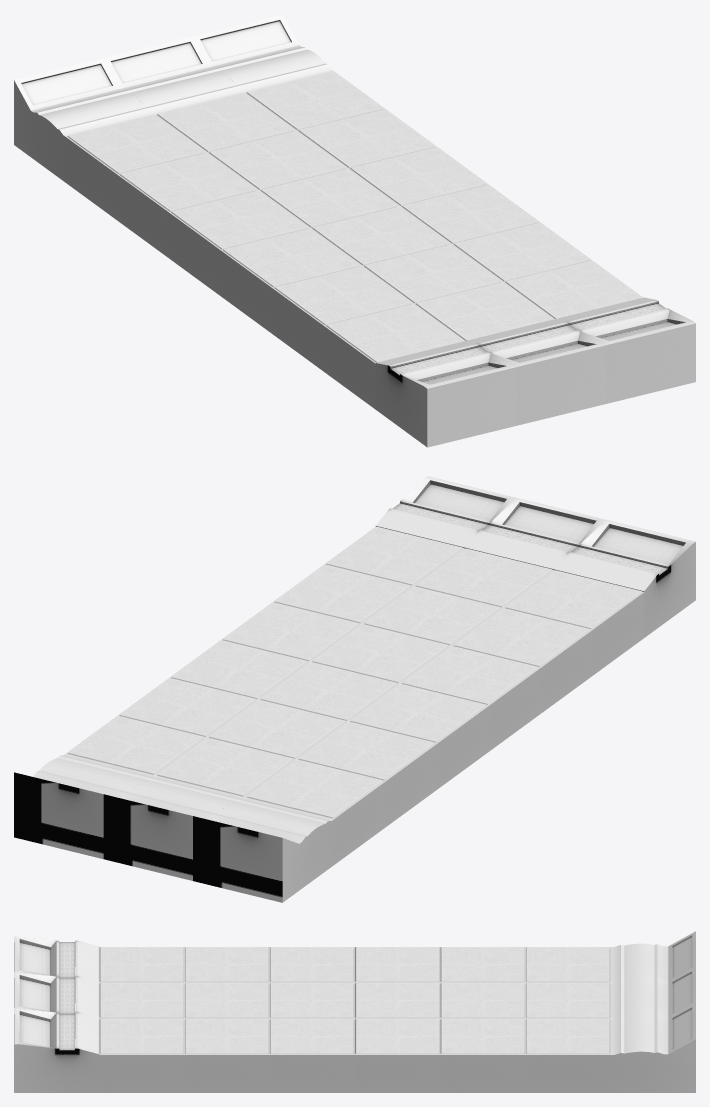
The model's file is WallSolid_3_6.fbx.
The picture shows the model from 3 angles, top to bottom: view 1: azimuth 30°, elevation 25°; view 2: azimuth 150°, elevation 25°; view 3: azimuth 270°, elevation 25°; orthographic projection. The views are drawn at different scales.
Parts seen in each view (by area): view 1: Wall_solid_3_6; view 2: Wall_solid_3_6; view 3: Wall_solid_3_6.
Part boxes in pixels (left/top/right/bottom): Wall_solid_3_6: left=14, top=14, right=695, bottom=447; Wall_solid_3_6: left=14, top=476, right=695, bottom=902; Wall_solid_3_6: left=14, top=931, right=695, bottom=1092.
Size of the model in its own units: 3 by 0.6947 by 8.
